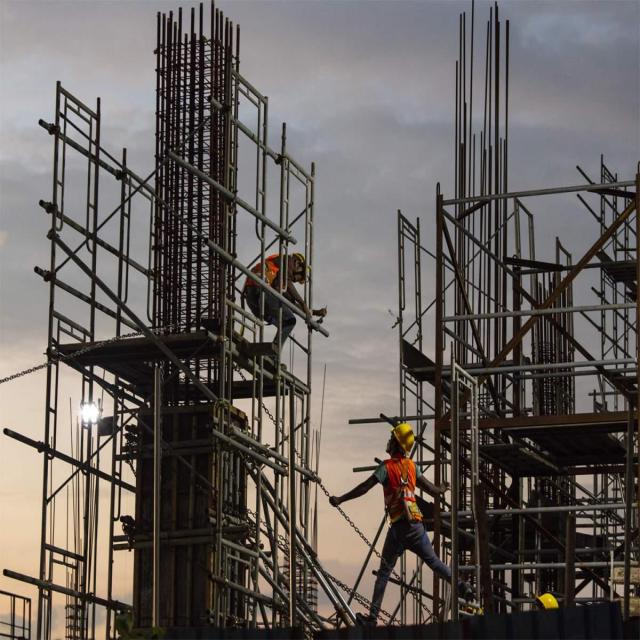Reflective-Jacket: (376, 456, 426, 530)
Safety-Helmet: (386, 417, 419, 454), (288, 248, 310, 272)
